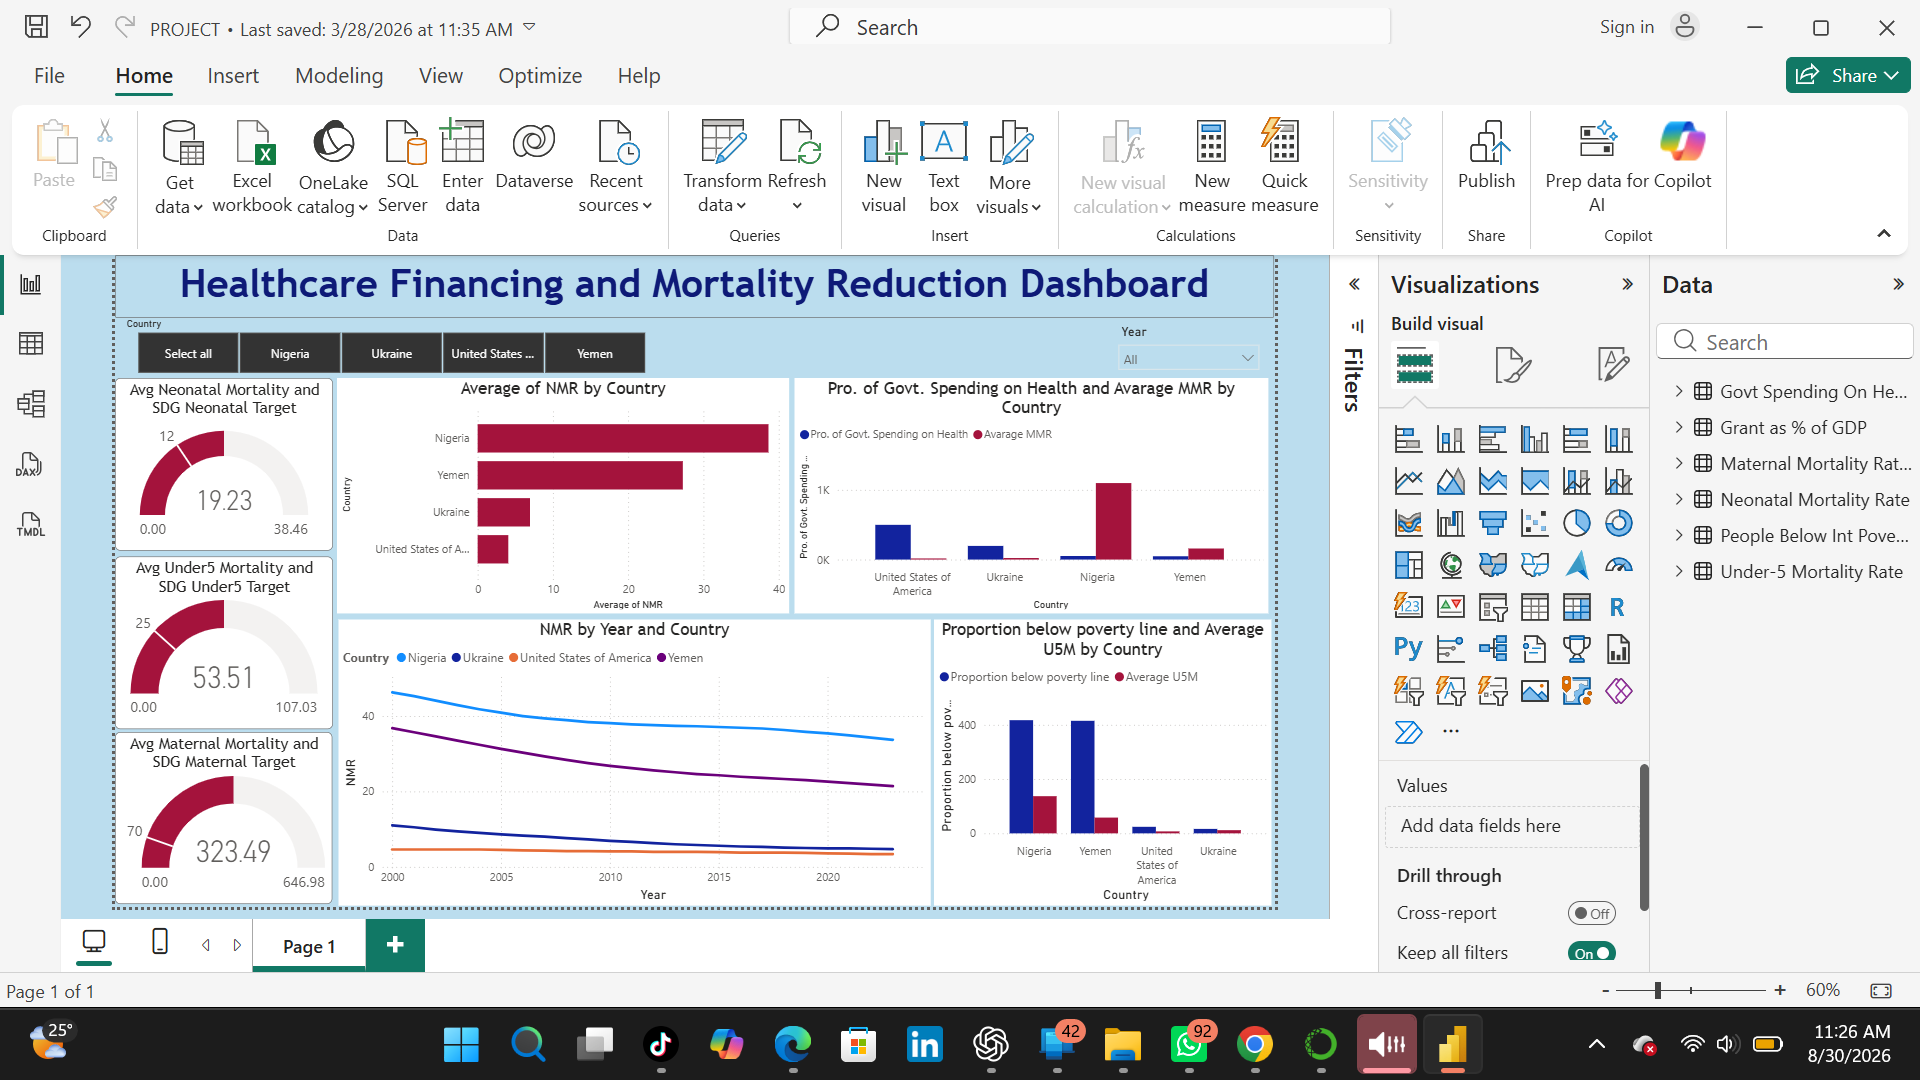

The page's visual inventory and layout, read from the dashboard file:
{"tool":"powerbi","page":{"name":"Page 1","canvas":[1280,720],"ordinal":0},"visuals":[{"type":"lineChart","fields":{"Category":["Neonatal Mortality Rate.Year"],"Series":["Neonatal Mortality Rate.Country"],"Y":["Avg(Neonatal Mortality Rate.Value)"]},"box":[246.3,402.1,653.9,315.8],"z":0},{"type":"clusteredBarChart","fields":{"Category":["Neonatal Mortality Rate.Country"],"Y":["Avg(Neonatal Mortality Rate.Value)"]},"box":[244.9,136.3,499.5,260.2],"z":1000},{"type":"clusteredColumnChart","fields":{"Category":["Under-5 Mortality Rate.Country"],"Y":["Sum(People Below Int Poverty Line.Value)","Avg(Under-5 Mortality Rate.Value)"]},"box":[904.3,402.1,372.9,315.8],"z":2000},{"type":"clusteredColumnChart","fields":{"Category":["Maternal Mortality Ratio.Country"],"Y":["Sum(Govt  Spending On Health Servic.Value)","Avg(Maternal Mortality Ratio.Value)"]},"box":[749.9,136.3,523.1,260.2],"z":3000},{"type":"gauge","fields":{"TargetValue":["Govt  Spending On Health Servic.SDG Neonatal Target"],"Y":["Govt  Spending On Health Servic.Avg Neonatal Mortality"]},"box":[0,136.3,240.7,190.6],"z":4000},{"type":"gauge","fields":{"TargetValue":["Govt  Spending On Health Servic.SDG Maternal Target"],"Y":["Govt  Spending On Health Servic.Avg Maternal Mortality"]},"box":[0,527.3,240,190],"z":5000},{"type":"gauge","fields":{"TargetValue":["Govt  Spending On Health Servic.SDG Under5 Target"],"Y":["Govt  Spending On Health Servic.Avg Under5 Mortality"]},"box":[0,332.5,240.7,190.6],"z":6000},{"type":"textbox","box":[0,0,1280,69.6],"z":7000},{"type":"slicer","fields":{"Values":["Govt  Spending On Health Servic.Country"]},"box":[0,64,609.4,72.3],"z":8000},{"type":"slicer","fields":{"Values":["Neonatal Mortality Rate.Year"]},"box":[1097.7,71,175.3,65.4],"z":9000}]}

Visuals, with their boxes on the page's 1280x720 design canvas (x1, y1, x2, y2). These are canvas units, not pixel positions in the 1920x1080 screenshot, which may show the page scaled, cropped or inside an application window:
lineChart - Neonatal Mortality Rate.Year x Neonatal Mortality Rate.Country: box=[246, 402, 900, 718]
clusteredBarChart - Neonatal Mortality Rate.Country x Avg(Neonatal Mortality Rate.Value): box=[245, 136, 744, 396]
clusteredColumnChart - Under-5 Mortality Rate.Country x Sum(People Below Int Poverty Line.Value): box=[904, 402, 1277, 718]
clusteredColumnChart - Maternal Mortality Ratio.Country x Sum(Govt  Spending On Health Servic.Value): box=[750, 136, 1273, 396]
gauge - Govt  Spending On Health Servic.SDG Neonatal Target x Govt  Spending On Health Servic.Avg Neonatal Mortality: box=[0, 136, 241, 327]
gauge - Govt  Spending On Health Servic.SDG Maternal Target x Govt  Spending On Health Servic.Avg Maternal Mortality: box=[0, 527, 240, 717]
gauge - Govt  Spending On Health Servic.SDG Under5 Target x Govt  Spending On Health Servic.Avg Under5 Mortality: box=[0, 332, 241, 523]
textbox: box=[0, 0, 1280, 70]
slicer - Govt  Spending On Health Servic.Country: box=[0, 64, 609, 136]
slicer - Neonatal Mortality Rate.Year: box=[1098, 71, 1273, 136]
